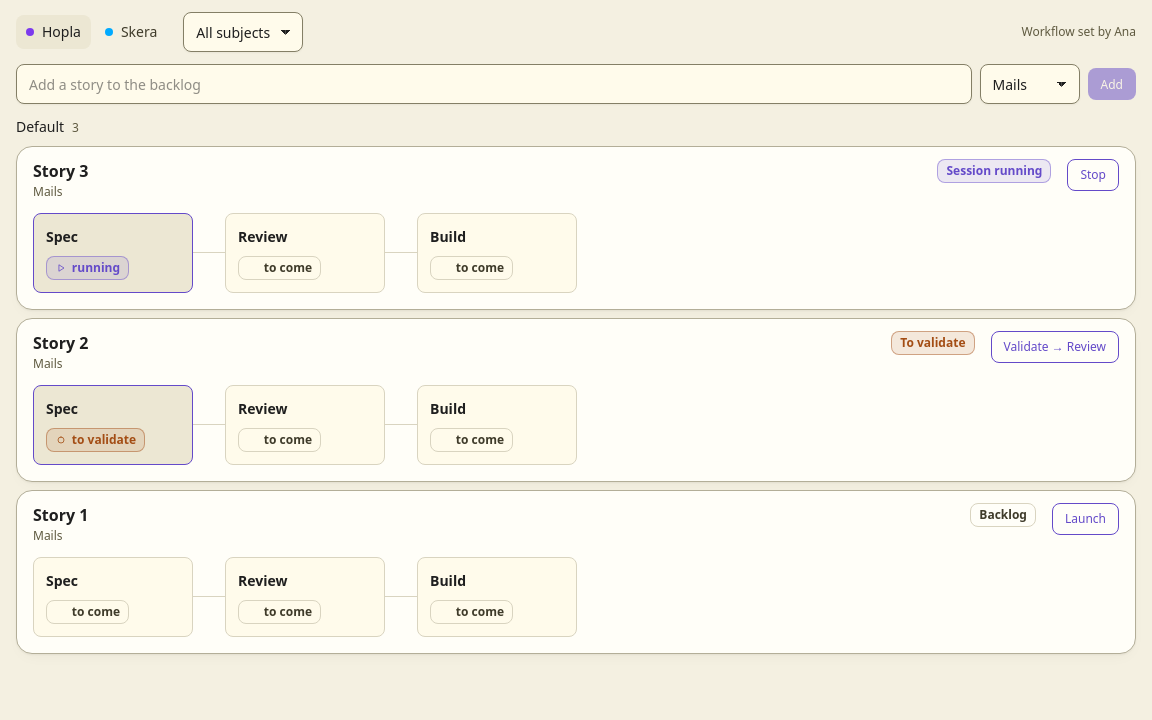
Test: the project pills and the filters › switches project and reads its own workflow
This screenshot has width=1152, height=720.
Click the button "Skera". click: (131, 32)
box: [95,15,167,49]
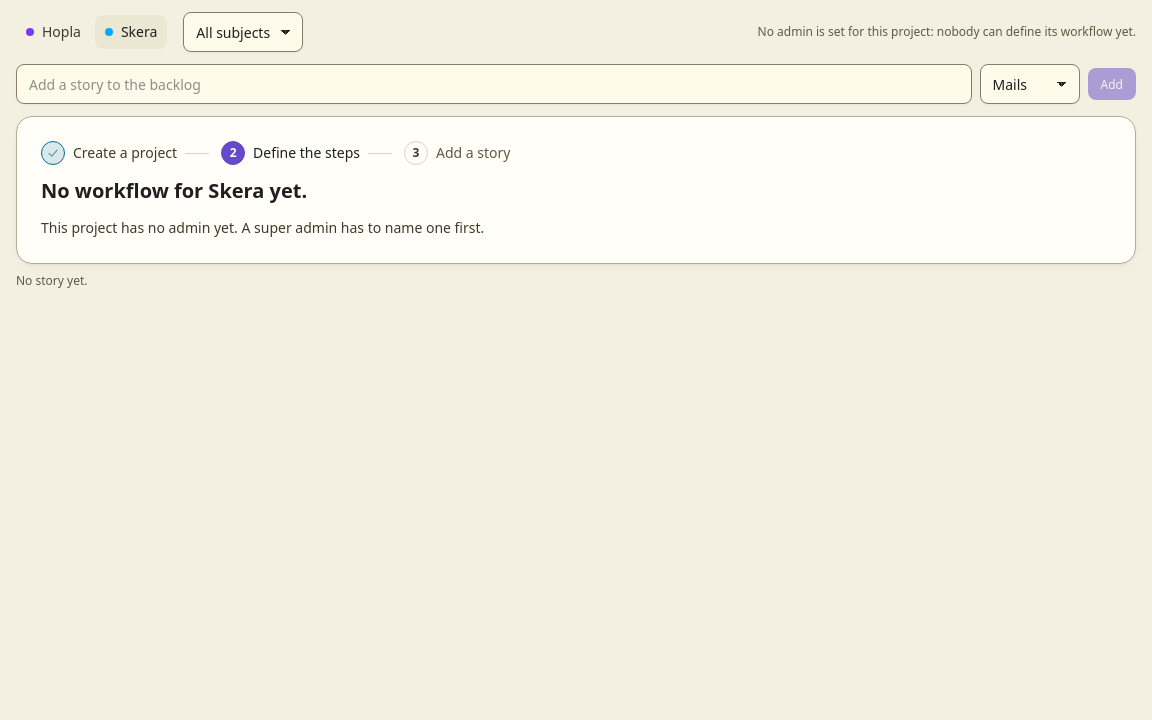
Expected: no list items with test id "forge-row" are shown
Expected: the text "No workflow for Skera yet" is shown, [41,177,307,204]
